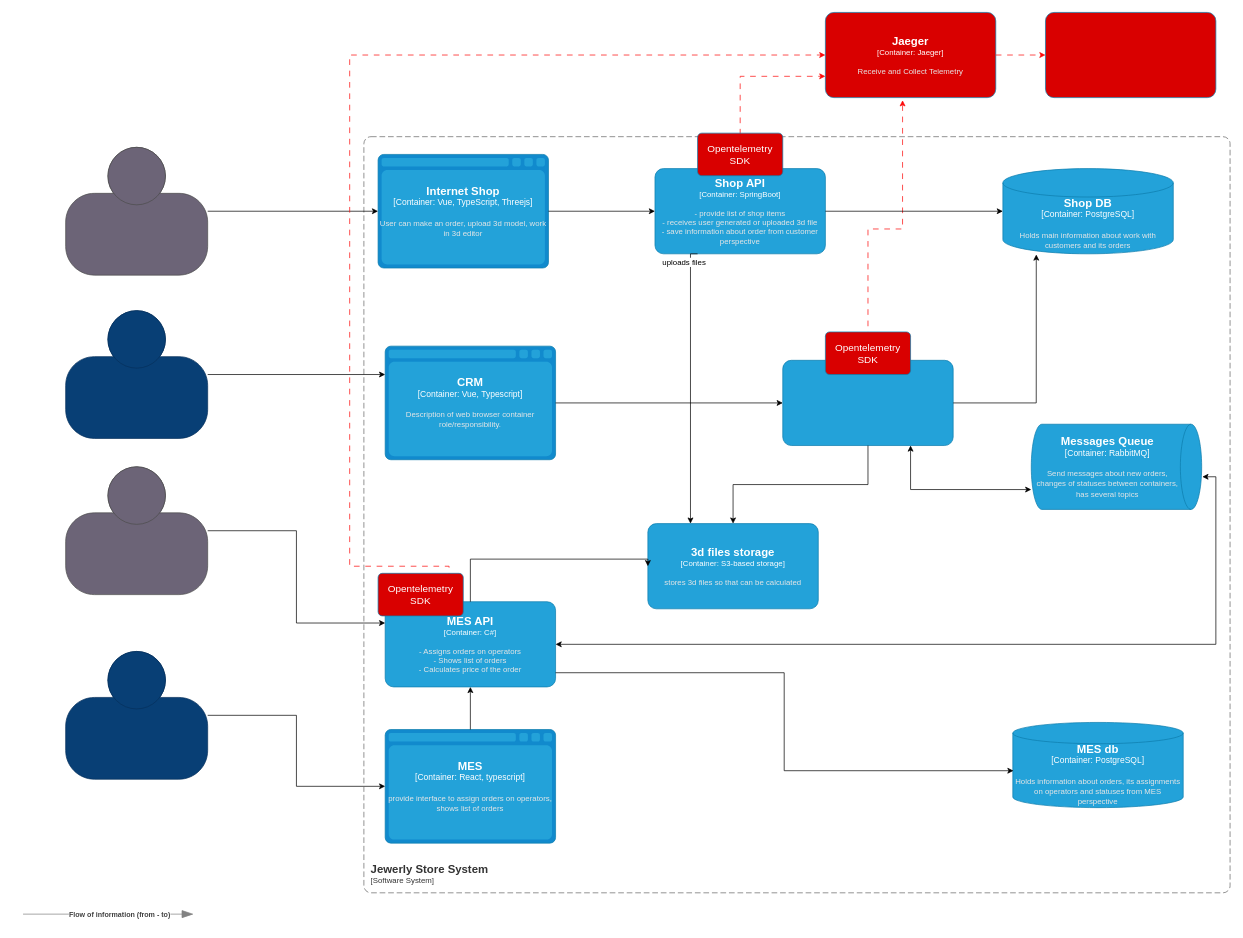
This 1243x938 diagram has some shape labels left out. The box of each missing label's shape, as (x1, y1, x2, y2) in pixels:
API user [Person] Description of external person.: (65, 466, 208, 595)
CRM API [Container: SpringBoot] Description of container role/responsibility.: (782, 360, 953, 446)
Customer [Person] Description of external person.: (65, 147, 208, 275)
Jaeger UI [Container: Jaeger] Visualize Telemetry Data: (1045, 12, 1216, 98)
Operator [Person] Takes order in work, manufactures jewerly: (65, 651, 208, 779)
Seller [Person] Operates with order, confirms manufacturing for the user: (65, 310, 208, 438)
